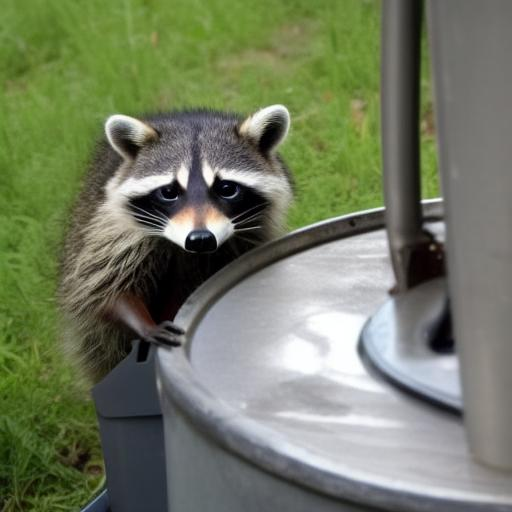raccoon: (47, 89, 309, 394)
